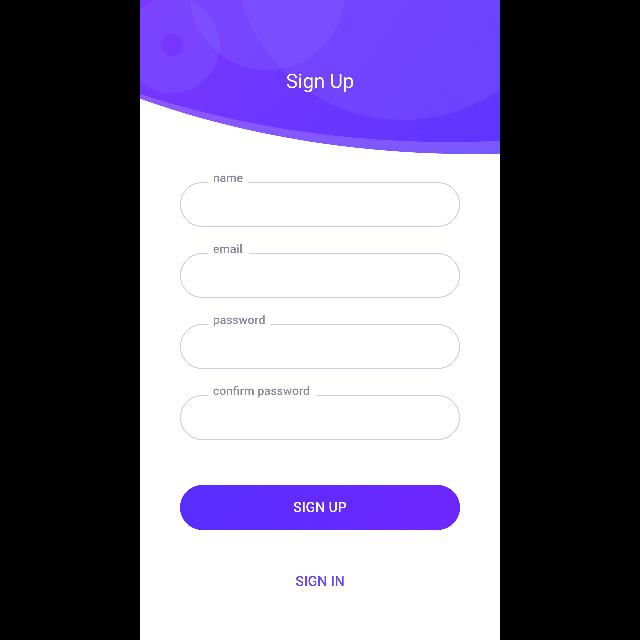input: (180, 386, 460, 440), (180, 315, 460, 369), (180, 244, 460, 298), (180, 175, 460, 227)
text: (286, 74, 354, 92), (214, 386, 310, 398), (213, 315, 264, 327), (296, 576, 344, 586), (214, 244, 242, 253), (214, 175, 242, 182)
textbutton: (180, 486, 460, 530)
